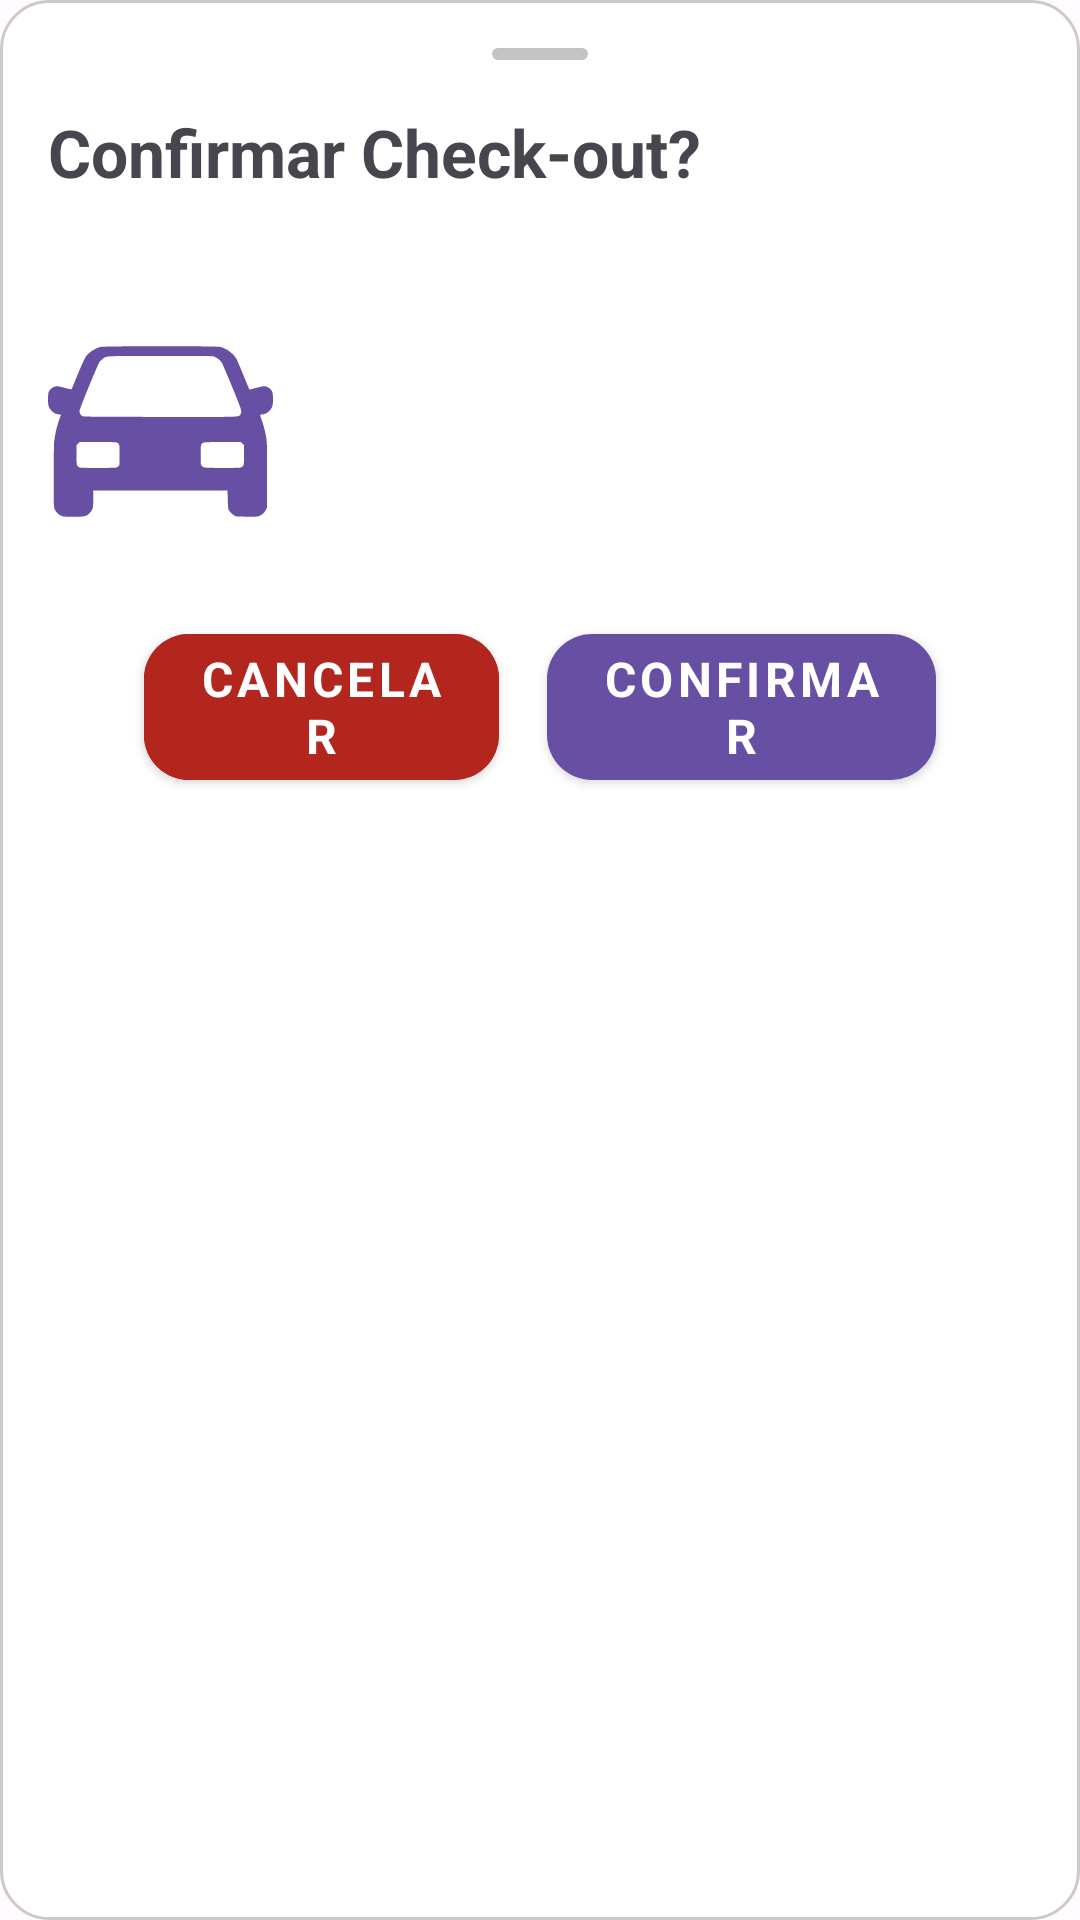

Where to tap for icons on this 1080 x 1920 app screen, as [x,y]:
Ícone de carro: [160,431]
